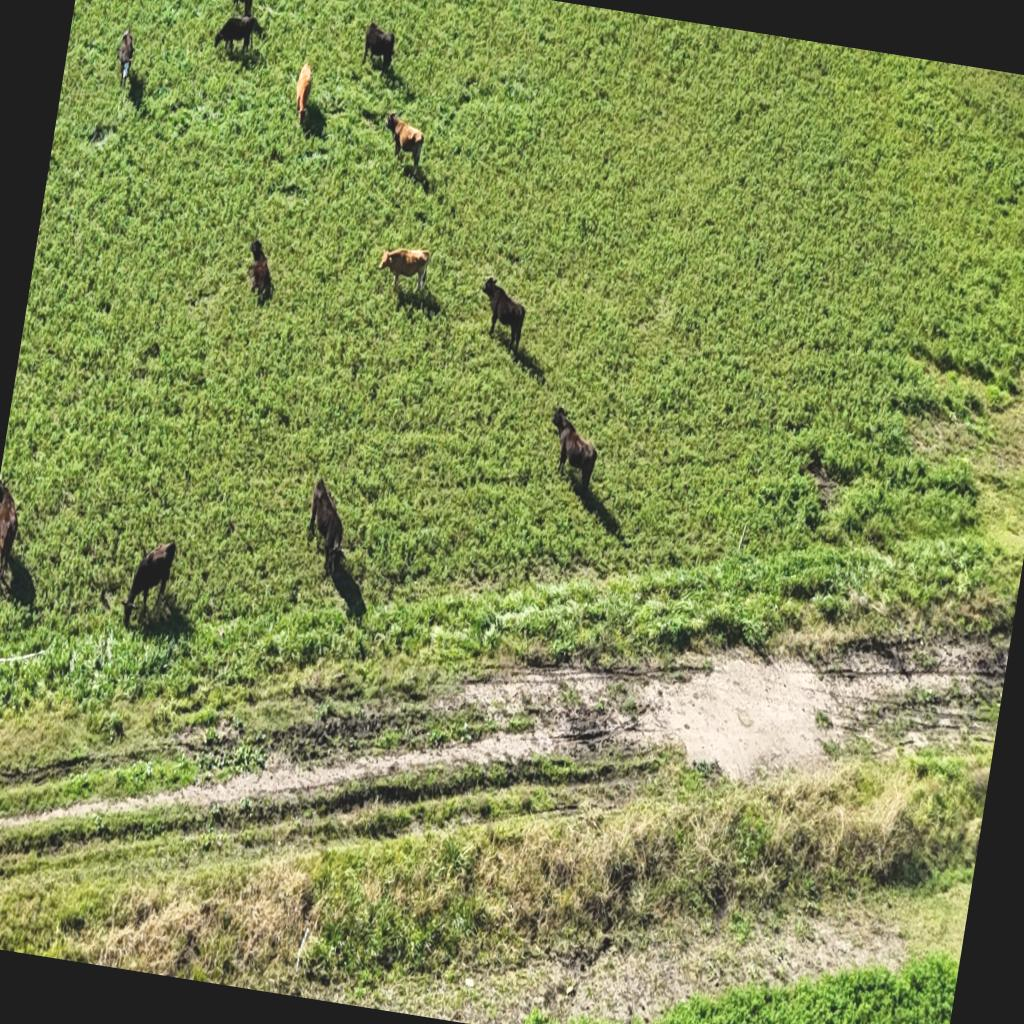cow: (0, 477, 45, 622), (119, 534, 178, 634), (540, 404, 604, 495), (556, 465, 632, 540), (300, 474, 354, 576), (472, 274, 531, 352), (320, 551, 376, 621), (375, 240, 432, 296), (378, 111, 426, 173), (500, 330, 554, 384), (240, 235, 280, 303), (106, 26, 140, 106), (392, 278, 446, 326), (212, 8, 262, 58), (359, 20, 399, 74), (292, 98, 332, 148), (289, 58, 315, 128), (404, 160, 436, 198), (122, 68, 146, 111), (356, 106, 386, 129), (221, 0, 259, 17)
